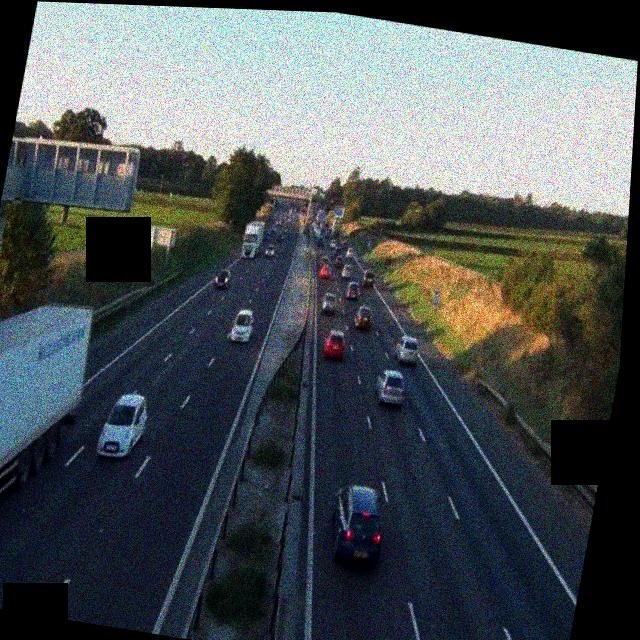car: (323, 481, 391, 567), (96, 387, 152, 462), (373, 366, 409, 408), (229, 306, 256, 343), (393, 334, 422, 368), (322, 329, 348, 360), (351, 303, 374, 330), (214, 267, 232, 292), (320, 290, 339, 313), (343, 279, 361, 301), (360, 270, 375, 288), (319, 261, 333, 279), (340, 267, 355, 282), (262, 243, 274, 257)
truck: (0, 291, 100, 605), (241, 218, 267, 261)
